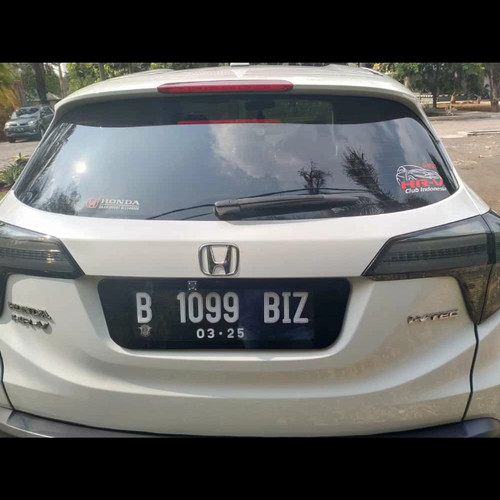plate: (133, 286, 320, 351)
